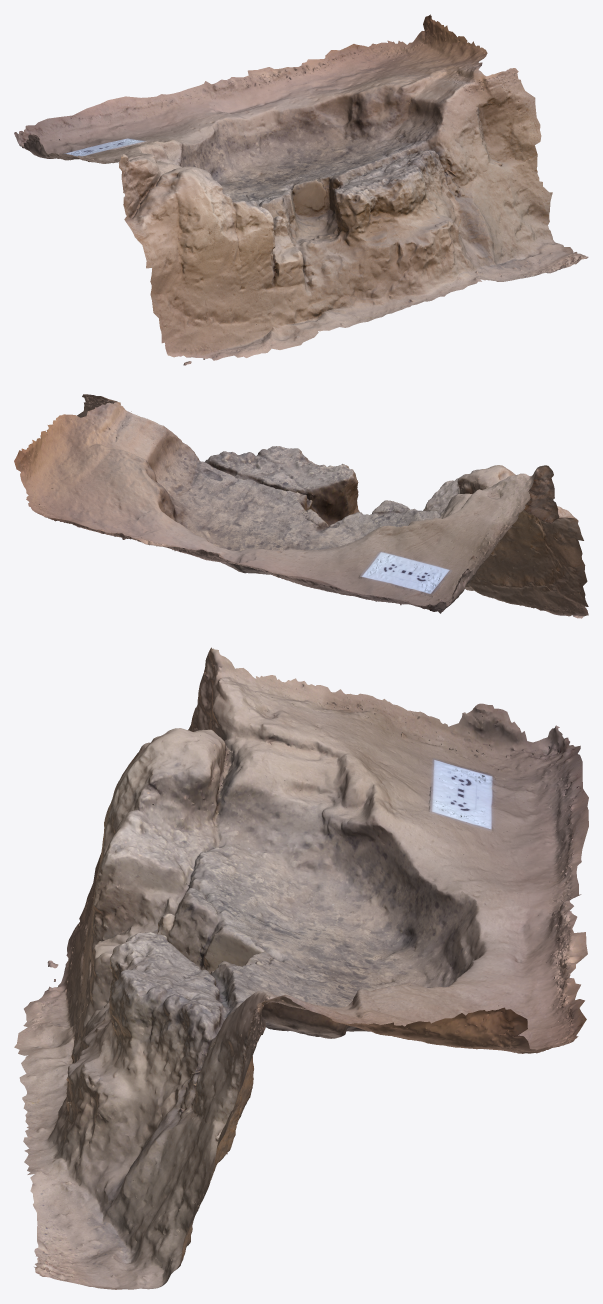
The model's file is modelo1.glb.
3 renders of one model, top to bottom at view 1: azimuth 30°, elevation 25°; view 2: azimuth 150°, elevation 25°; view 3: azimuth 270°, elevation 25°, orthographic. The views are drawn at different scales.
Visible parts, largest first — view 1: Model; view 2: Model; view 3: Model.
Part boxes in pixels (left/top/right/bottom): Model: left=14, top=14, right=588, bottom=365; Model: left=14, top=394, right=588, bottom=618; Model: left=14, top=647, right=588, bottom=1289.
Size of the model in its own units: 1.43 by 0.5673 by 0.9661.
1 material, 1 textured.
